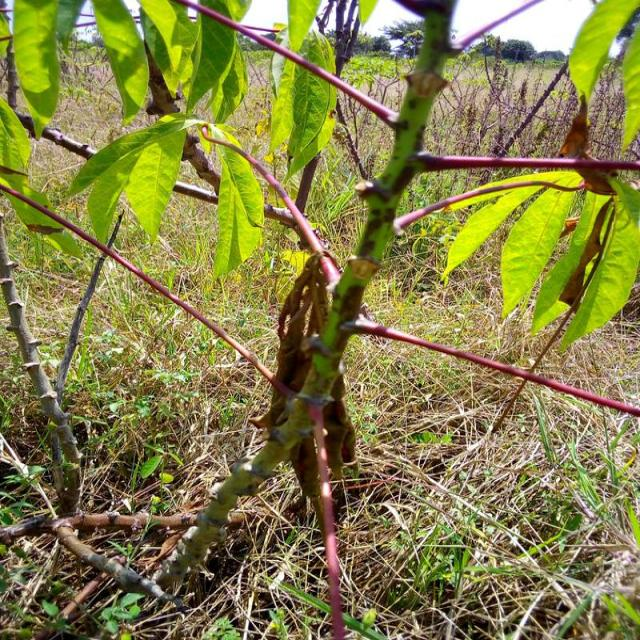cassava leaf: (267, 26, 338, 177), (202, 123, 264, 280), (90, 0, 150, 125), (11, 0, 60, 139)
